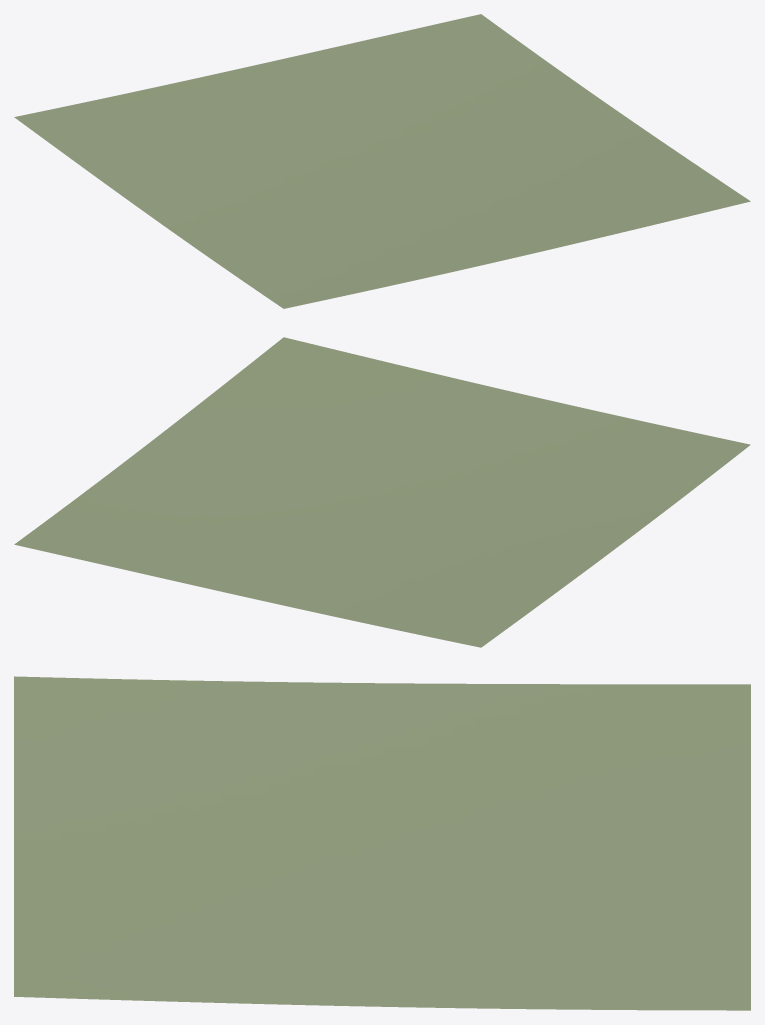
The model's file is expanse-0-7.glb.
3 renders of one model, top to bottom at view 1: azimuth 30°, elevation 25°; view 2: azimuth 150°, elevation 25°; view 3: azimuth 270°, elevation 25°, orthographic. The views are drawn at different scales.
Visible parts, largest first — view 1: expanse-0-7; view 2: expanse-0-7; view 3: expanse-0-7.
Boxes of the visible parts, x1,y1,x2,y2 form: expanse-0-7: [14, 14, 750, 308]; expanse-0-7: [14, 337, 750, 647]; expanse-0-7: [14, 676, 750, 1010].
Bounding box in the file's own units: 256 × 8.66 × 256.
